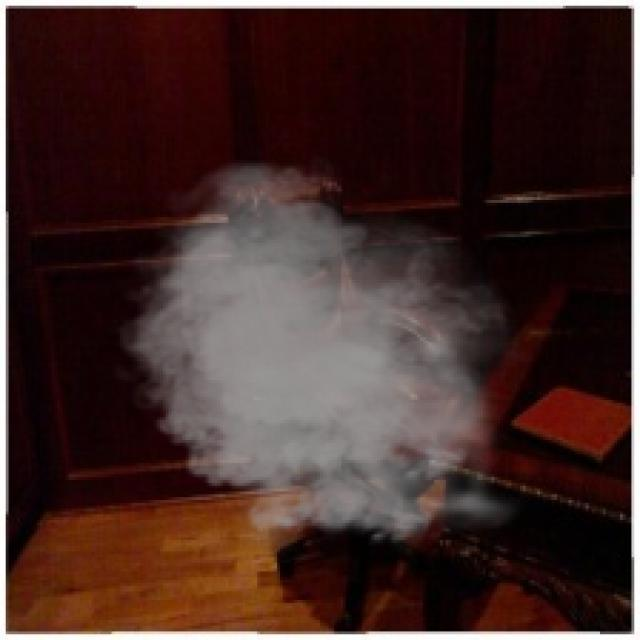Smoke: (106, 148, 532, 563)
